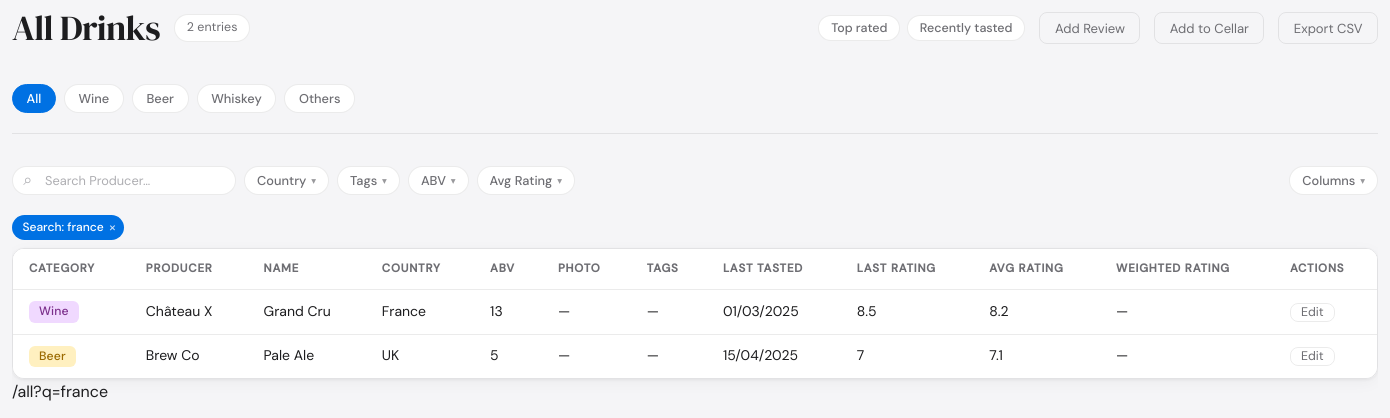
Test case: clicking × on search chip clears ?q from URL
Expected: the text "Grand Cru" is shown, [248, 290, 366, 334]
Click the button named "Clear search" at point(112, 227), box [108, 220, 116, 234]
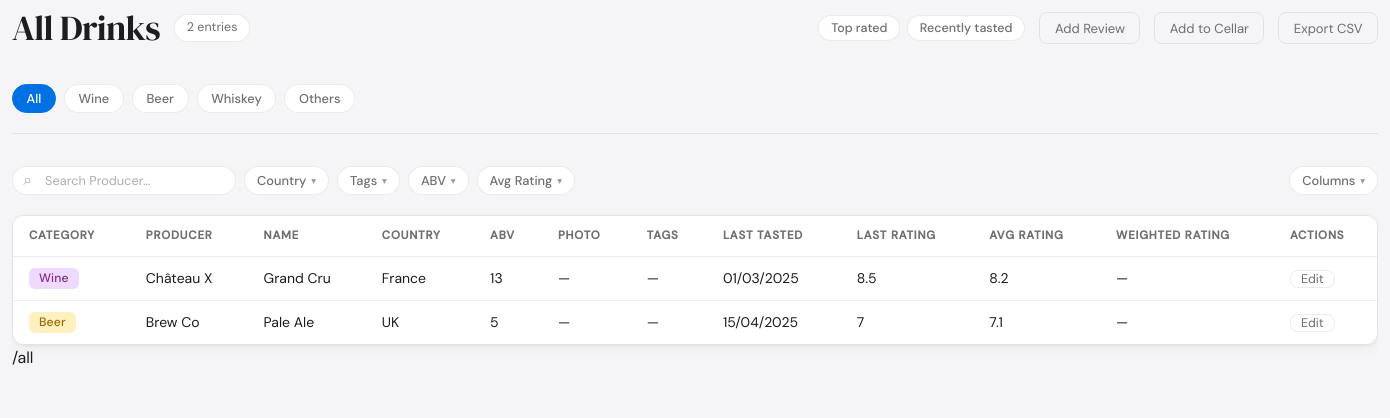
Expected: the text with test id "location" reads "/all", [12, 347, 33, 368]
